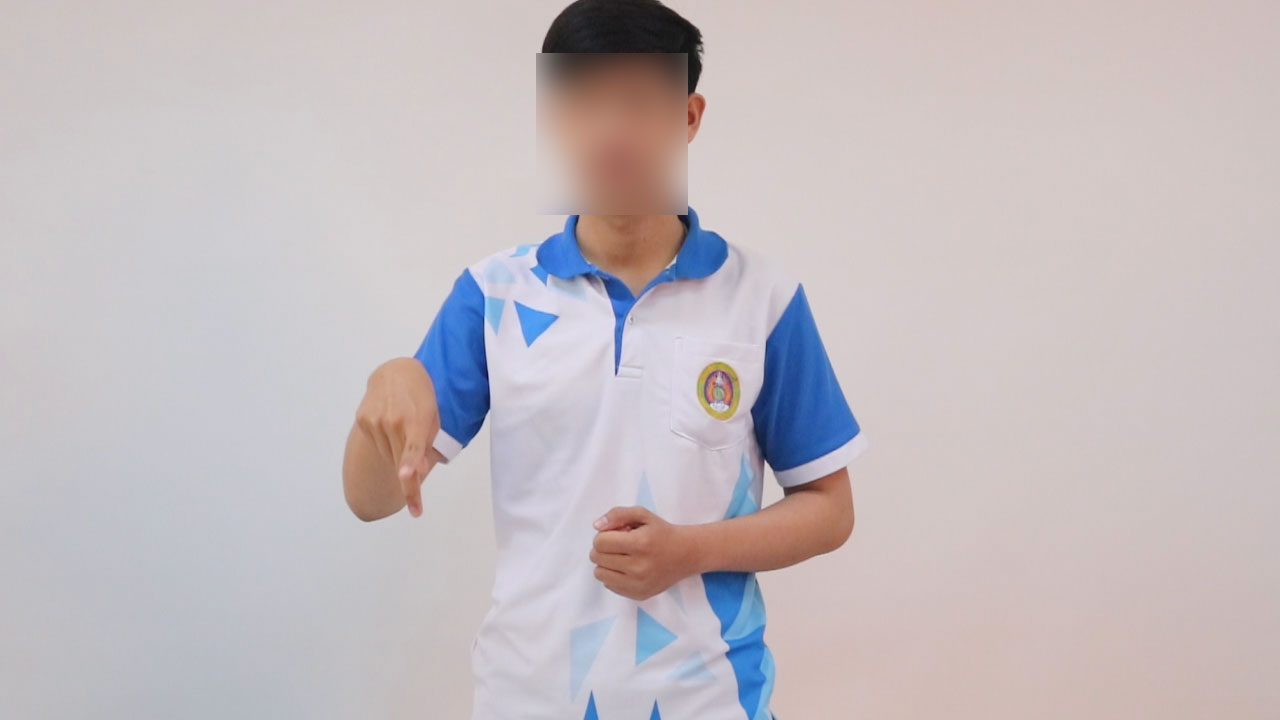por: (341, 334, 458, 525)
